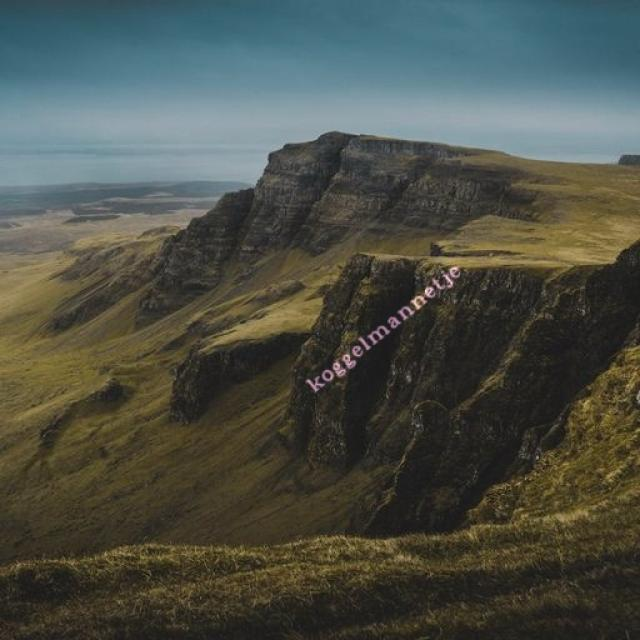watermark: (307, 255, 462, 396)
